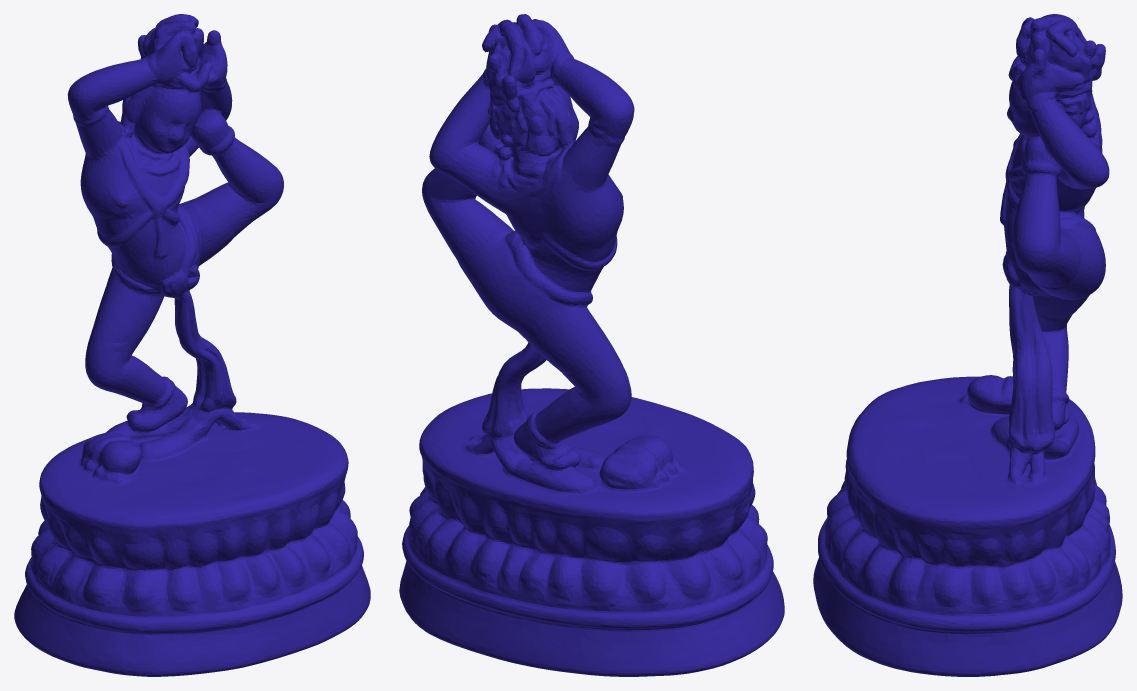
Rendered from iter_20.glb.
3 views of the same model, side by side, from view 1: azimuth 30°, elevation 25°; view 2: azimuth 150°, elevation 25°; view 3: azimuth 270°, elevation 25° (orthographic). The views are drawn at different scales.
Visible parts, largest first — view 1: textured_mesh; view 2: textured_mesh; view 3: textured_mesh.
Boxes of the visible parts, <box> form: textured_mesh: <box>14,14,370,676</box>; textured_mesh: <box>399,14,784,676</box>; textured_mesh: <box>813,14,1122,676</box>.
Size of the model in its own units: 1.18 by 1.99 by 0.9397.
